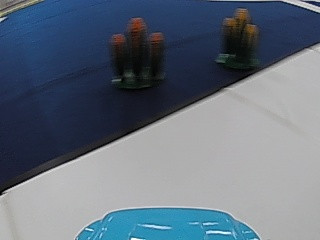corn: (109, 14, 163, 91), (218, 5, 261, 70)
